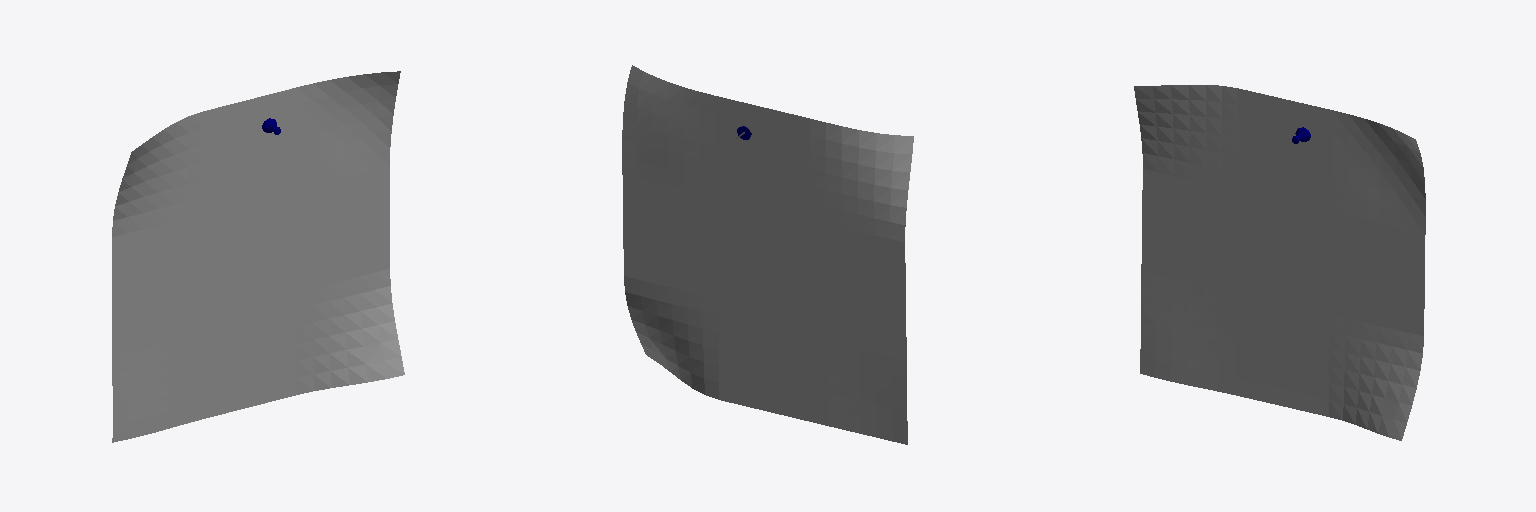
The model's file is paperpin4.obj.
3 views of the same model, side by side, from view 1: azimuth 30°, elevation 25°; view 2: azimuth 150°, elevation 25°; view 3: azimuth 330°, elevation 25° (orthographic).
Parts seen in each view (by area): view 1: drawing.001; view 2: drawing.001; view 3: drawing.001.
Boxes of the visible parts, x1=… form: drawing.001: x1=112, y1=71, x2=404, y2=442; drawing.001: x1=622, y1=65, x2=913, y2=444; drawing.001: x1=1134, y1=85, x2=1425, y2=440.
Size of the model in its own units: 0.2867 by 0.297 by 0.0476.